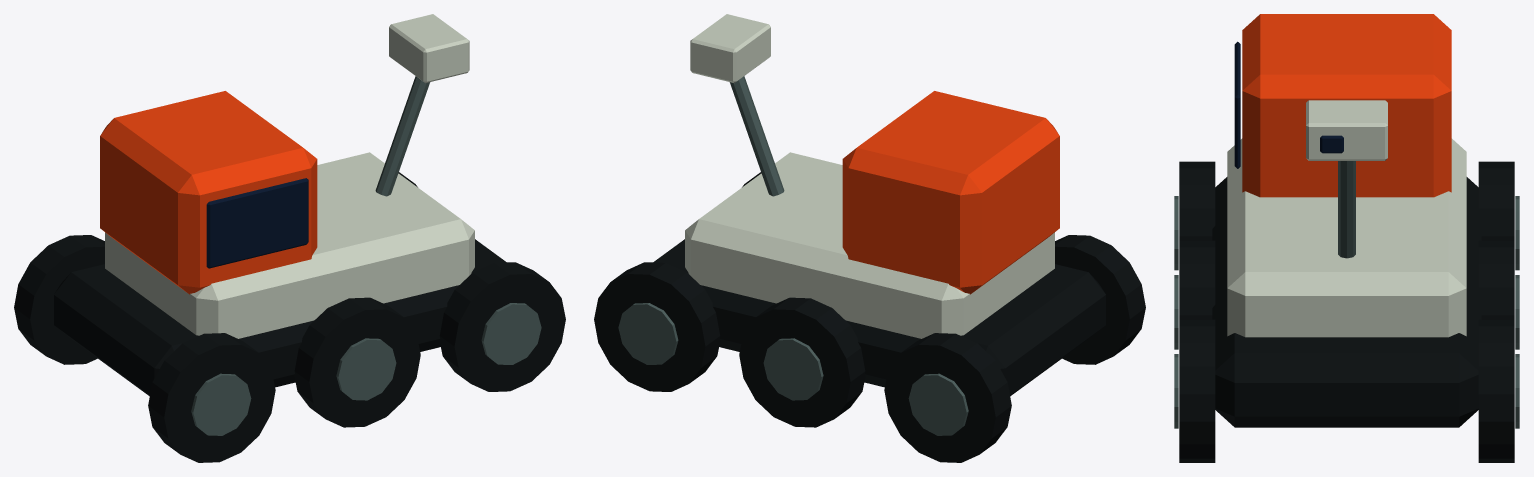
Rendered from SM_MP_Survey_Rover.fbx.
3 renders of one model, left to right at view 1: azimuth 30°, elevation 25°; view 2: azimuth 150°, elevation 25°; view 3: azimuth 270°, elevation 25°, orthographic. The views are drawn at different scales.
Visible parts, largest first — view 1: SM_MP_Survey_Rover; view 2: SM_MP_Survey_Rover; view 3: SM_MP_Survey_Rover.
Part boxes in pixels (x1,y1,x2,y2): SM_MP_Survey_Rover: [14, 14, 565, 462]; SM_MP_Survey_Rover: [594, 14, 1145, 462]; SM_MP_Survey_Rover: [1174, 14, 1519, 462].
Size of the model in its own units: 346 by 231 by 252.
Materials: 1 (1 with a texture image).
